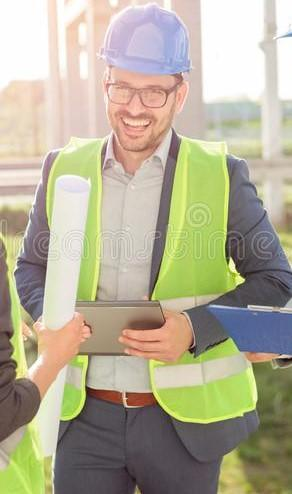hat: (94, 1, 229, 139)
vest: (29, 139, 292, 442), (1, 217, 50, 494)
